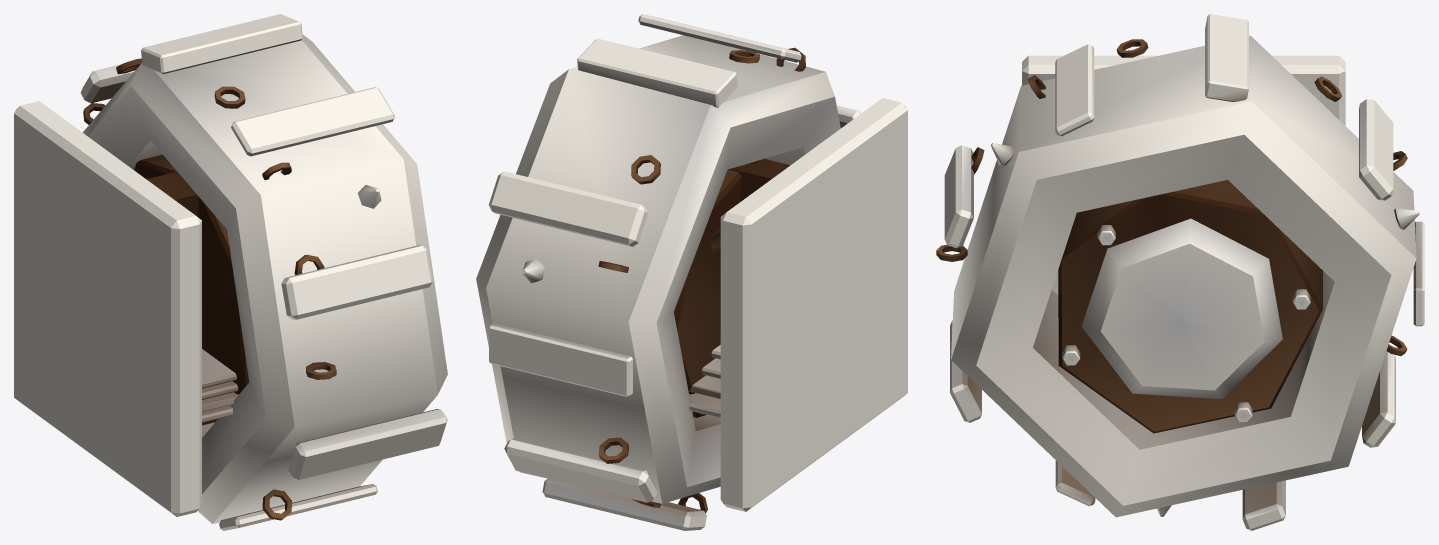
The model's file is R4M_WheelM_Side_Offroad_LOD1.fbx.
3 views of the same model, side by side, from view 1: azimuth 30°, elevation 25°; view 2: azimuth 150°, elevation 25°; view 3: azimuth 270°, elevation 25° (orthographic).
Visible parts, largest first — view 1: R4M_WheelM_Side_Offroad_LOD1; view 2: R4M_WheelM_Side_Offroad_LOD1; view 3: R4M_WheelM_Side_Offroad_LOD1.
Boxes of the visible parts, x1,y1,x2,y2 form: R4M_WheelM_Side_Offroad_LOD1: (14, 14, 447, 530); R4M_WheelM_Side_Offroad_LOD1: (476, 14, 907, 530); R4M_WheelM_Side_Offroad_LOD1: (936, 14, 1424, 530).
Size of the model in its own units: 0.448 by 0.7696 by 0.7542.
